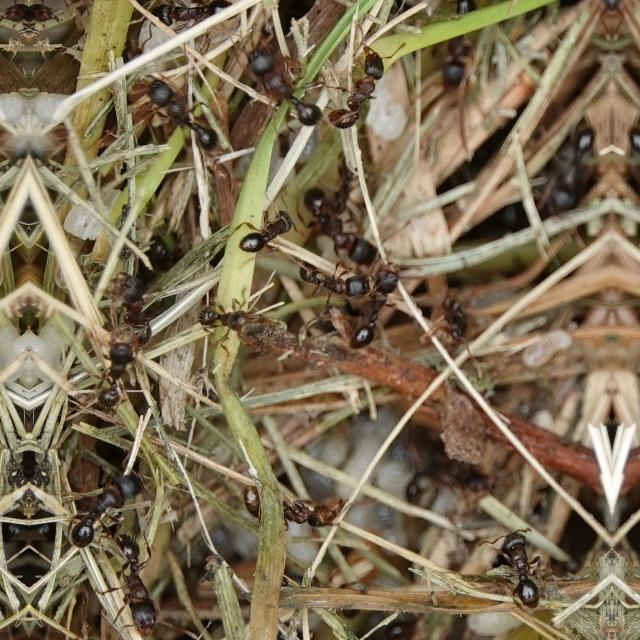Tetramorium: (232, 474, 382, 532), (294, 172, 382, 266), (315, 42, 401, 136), (97, 523, 169, 635), (238, 36, 324, 126), (400, 437, 500, 509), (534, 120, 604, 220), (65, 464, 138, 554), (137, 71, 219, 151), (428, 0, 486, 104), (488, 507, 550, 603), (342, 263, 403, 351), (80, 322, 136, 412), (230, 194, 308, 258), (110, 225, 166, 312), (290, 245, 370, 297), (426, 279, 484, 343), (196, 289, 262, 339), (618, 118, 640, 220)
